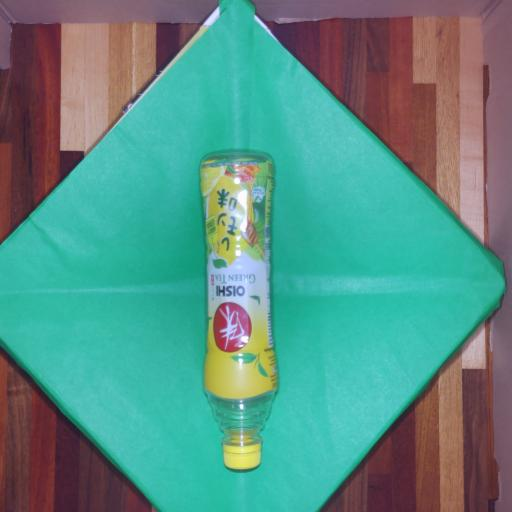bottle: (186, 136, 288, 485)
